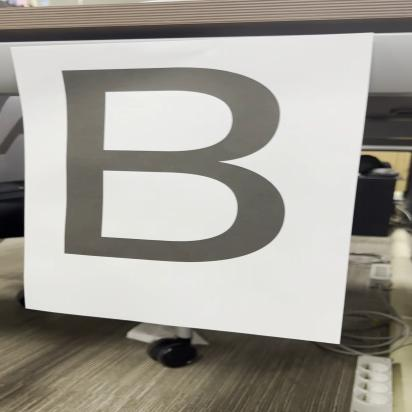seat: (39, 58, 295, 276)
